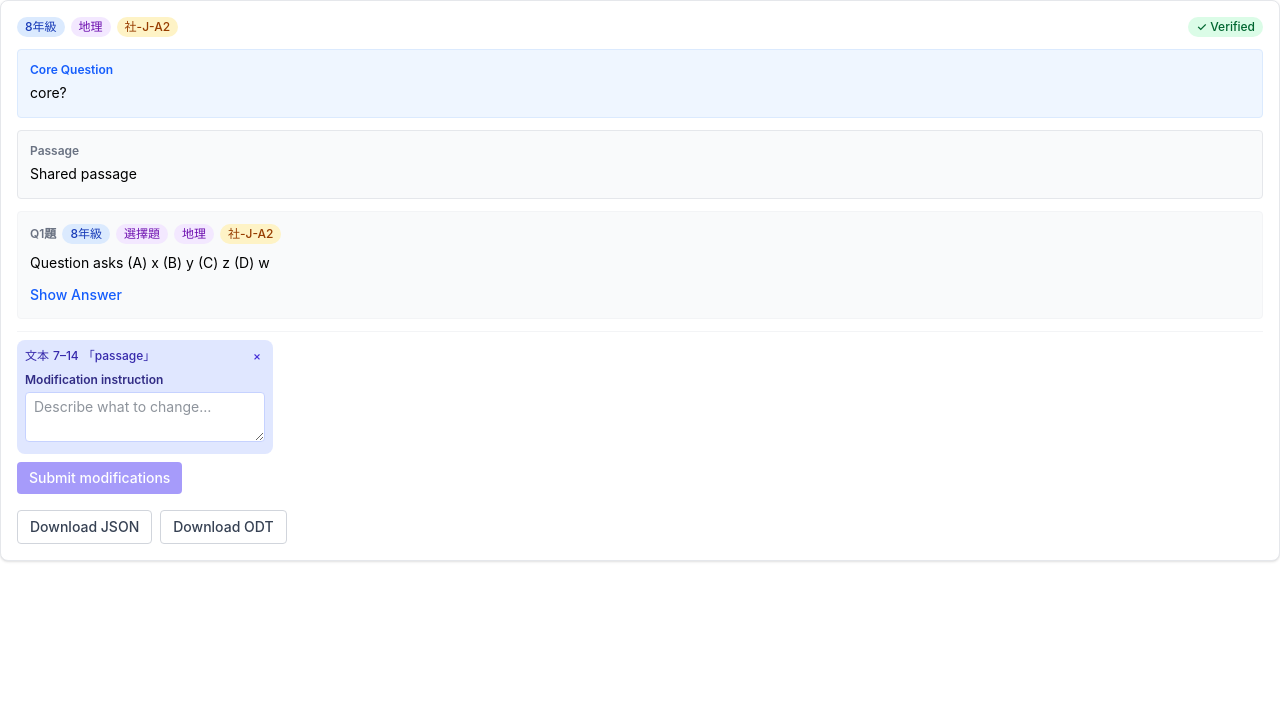
QuestionCard 人工審題修正 run lifecycle › renders 修改 → 驗證 → 修正 → 驗證 in stream order
Type "Fix the passage" into the text box named "Modification instruction 1" at (145, 417), box top-left (25, 392), bottom-right (265, 442)
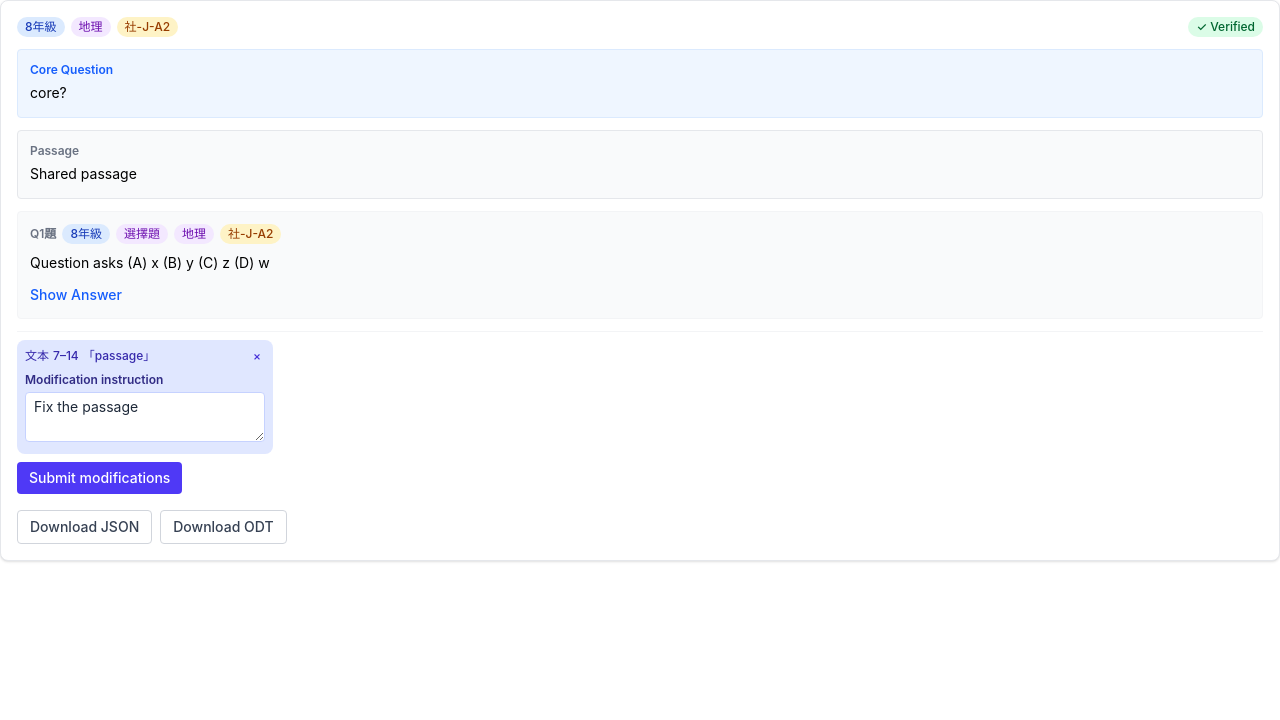
Click the button "Submit modifications" at (100, 478), box top-left (17, 462), bottom-right (182, 494)
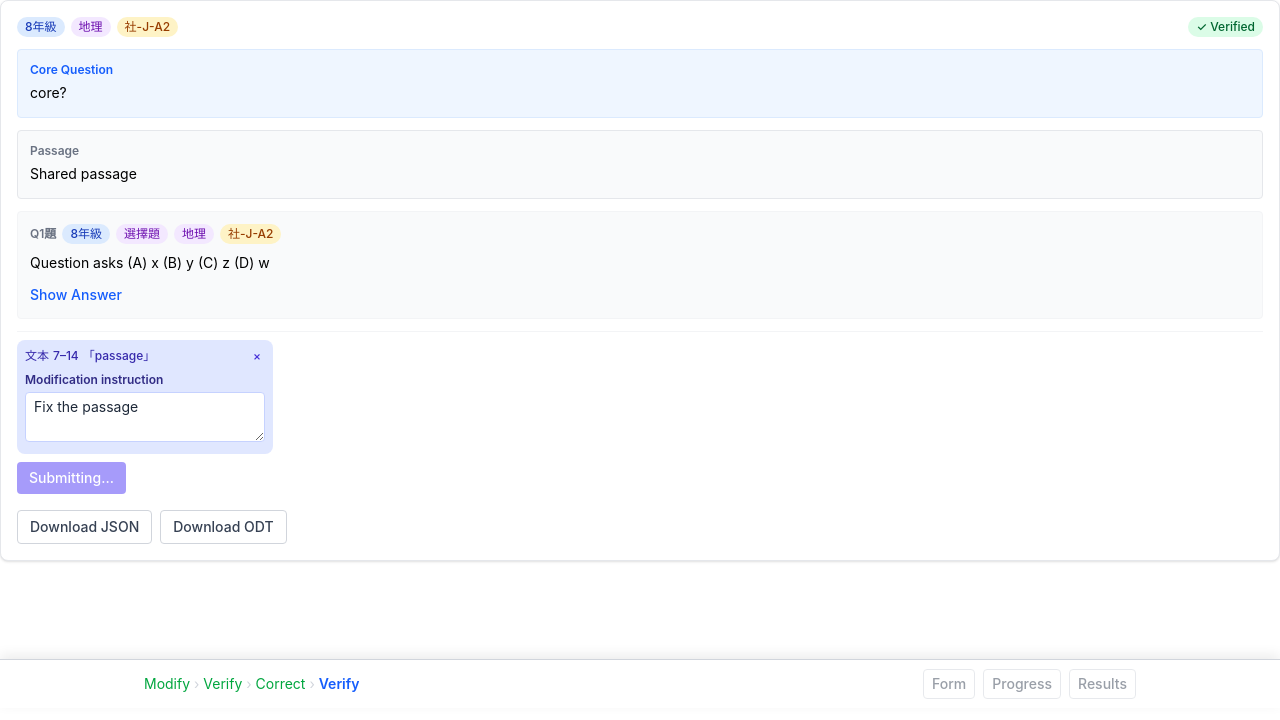
Check: the element with test id "modification-step-breadcrumb" shows "Modify", box top-left (144, 675), bottom-right (190, 692)
Check: the element with test id "modification-step-breadcrumb" shows "Verify", box top-left (203, 675), bottom-right (242, 692)
Check: the element with test id "modification-step-breadcrumb" shows "Correct", box top-left (256, 675), bottom-right (306, 692)
